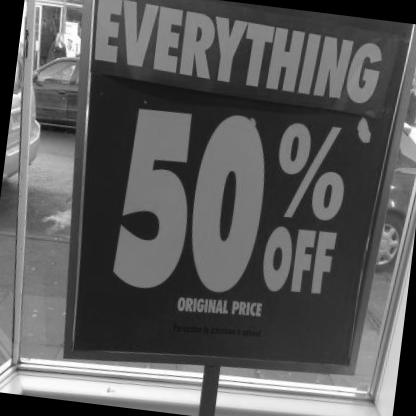car: (16, 37, 101, 125)
